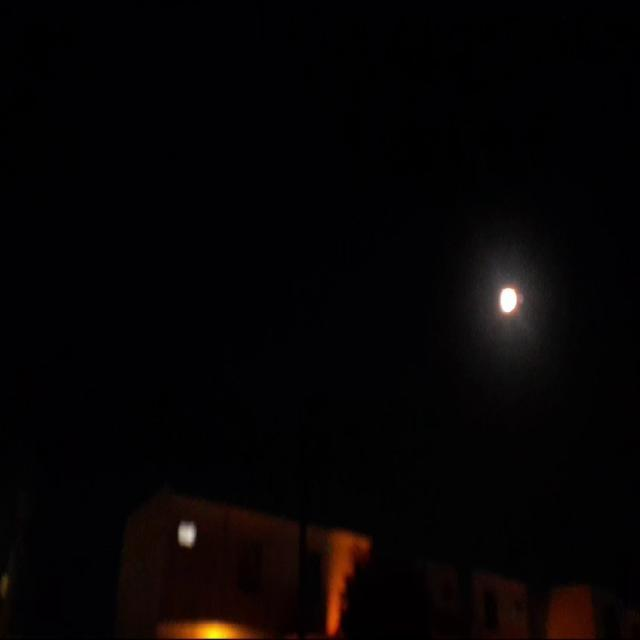moon: (498, 284, 520, 318)
